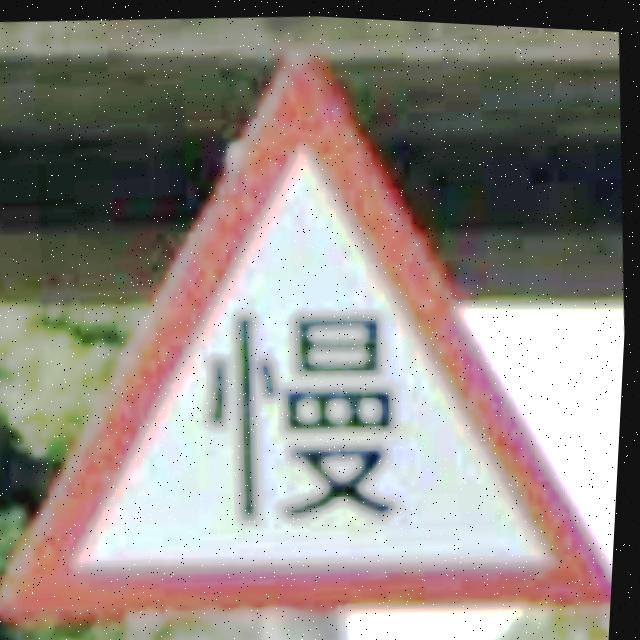slow: (1, 52, 618, 617)
